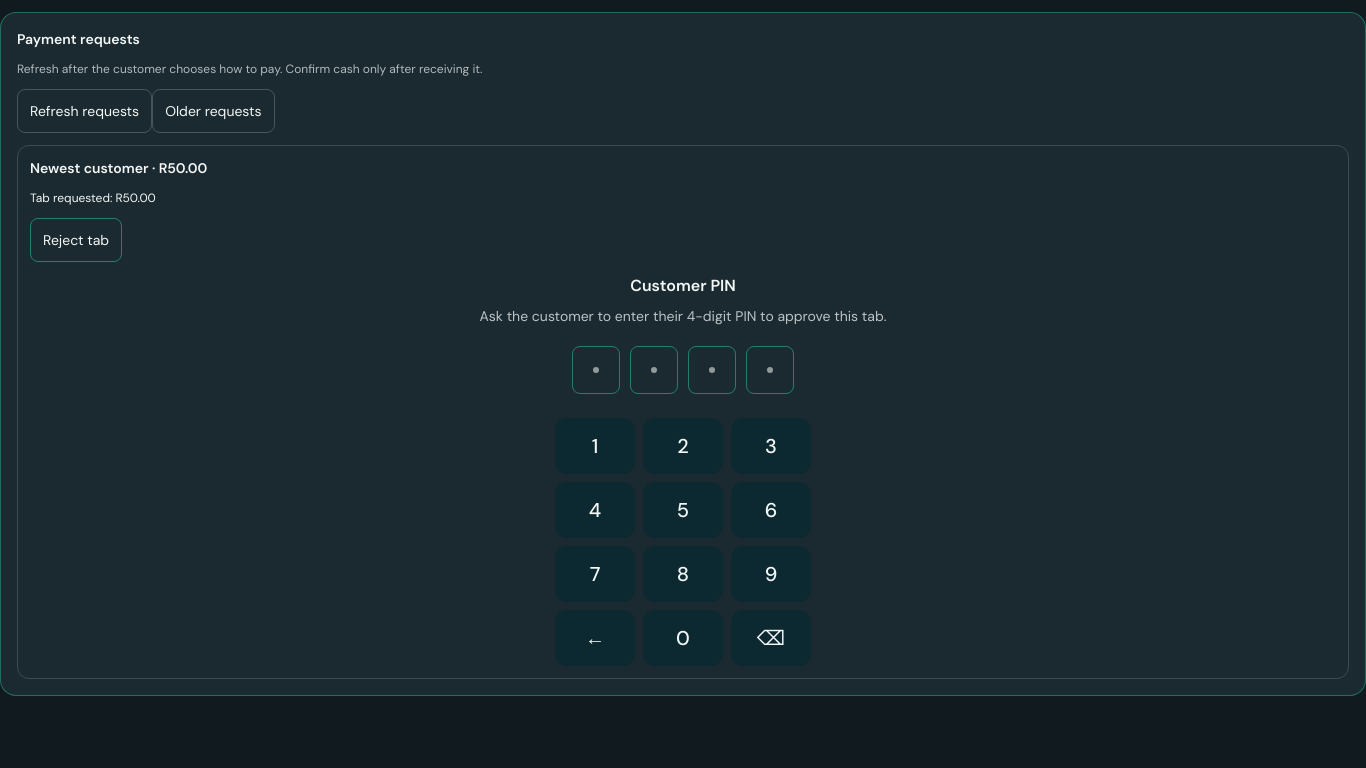
Scenario: owner payment interactions › preserves keypad feedback for invalid_pin across the parent's busy render
Expected: the text "Newest customer · R50.00" is shown, [30,159,207,177]
Expected: the button "Older requests" is enabled, [152,89,275,133]
Click the button named "Enter 1" at [595, 446], box [555,418,635,474]
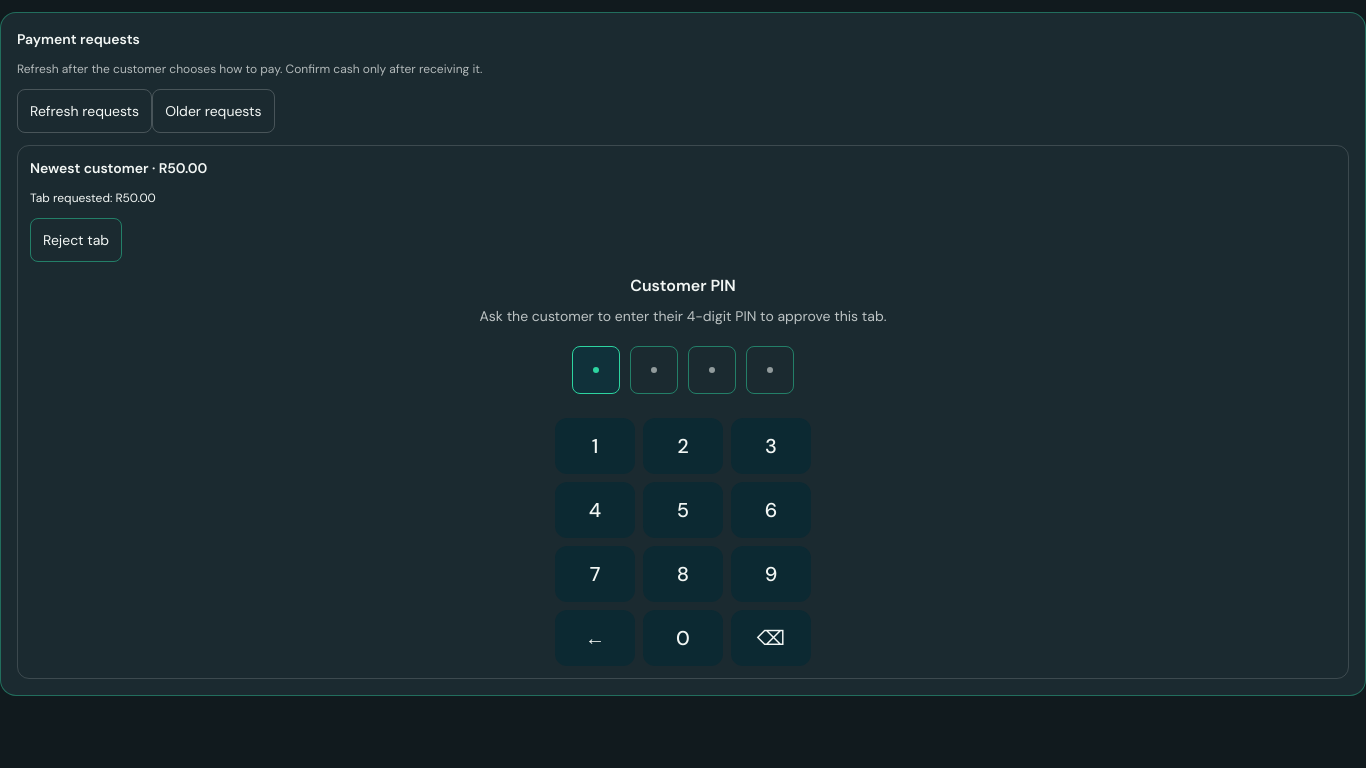
Click the button "2" at [683, 446], box [643,418,723,474]
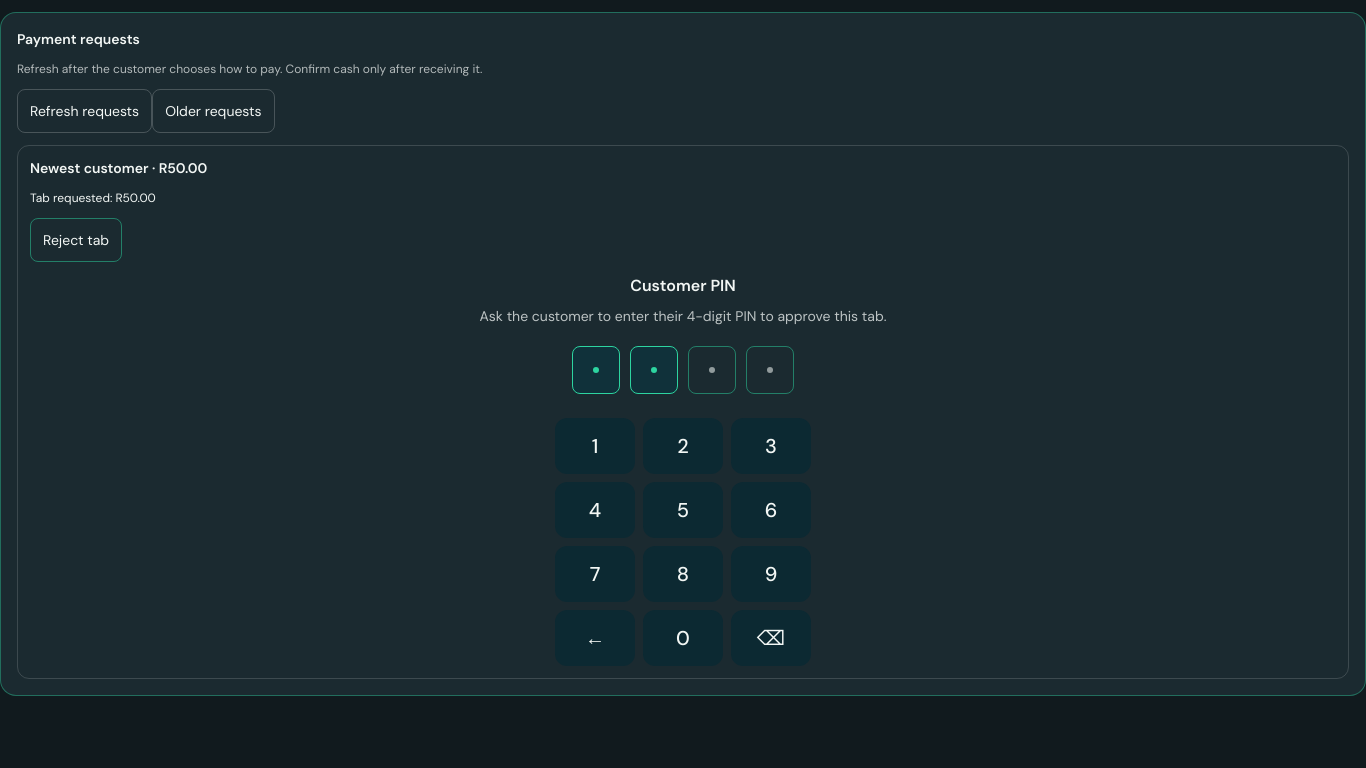
Click the button "3" at [771, 446], box [731,418,811,474]
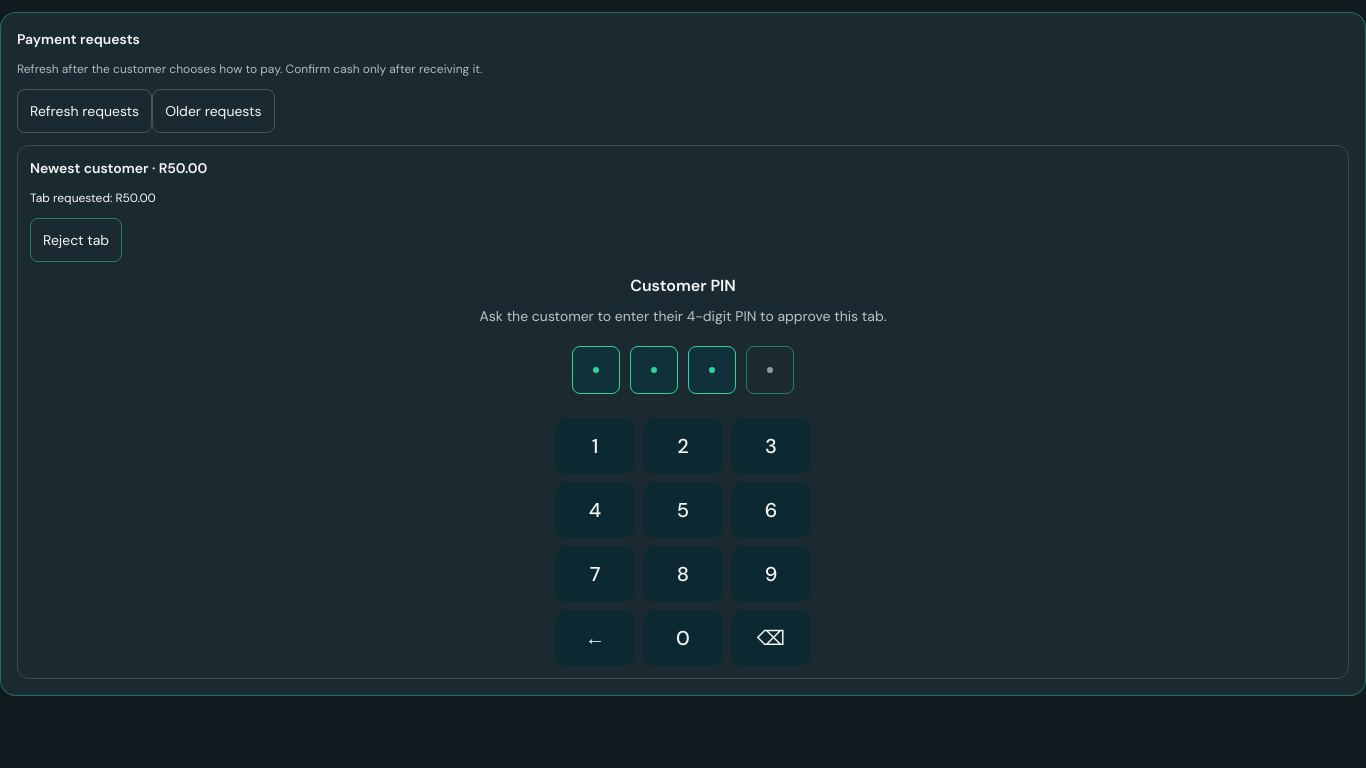
Click the button "4" at [595, 510], box [555,482,635,538]
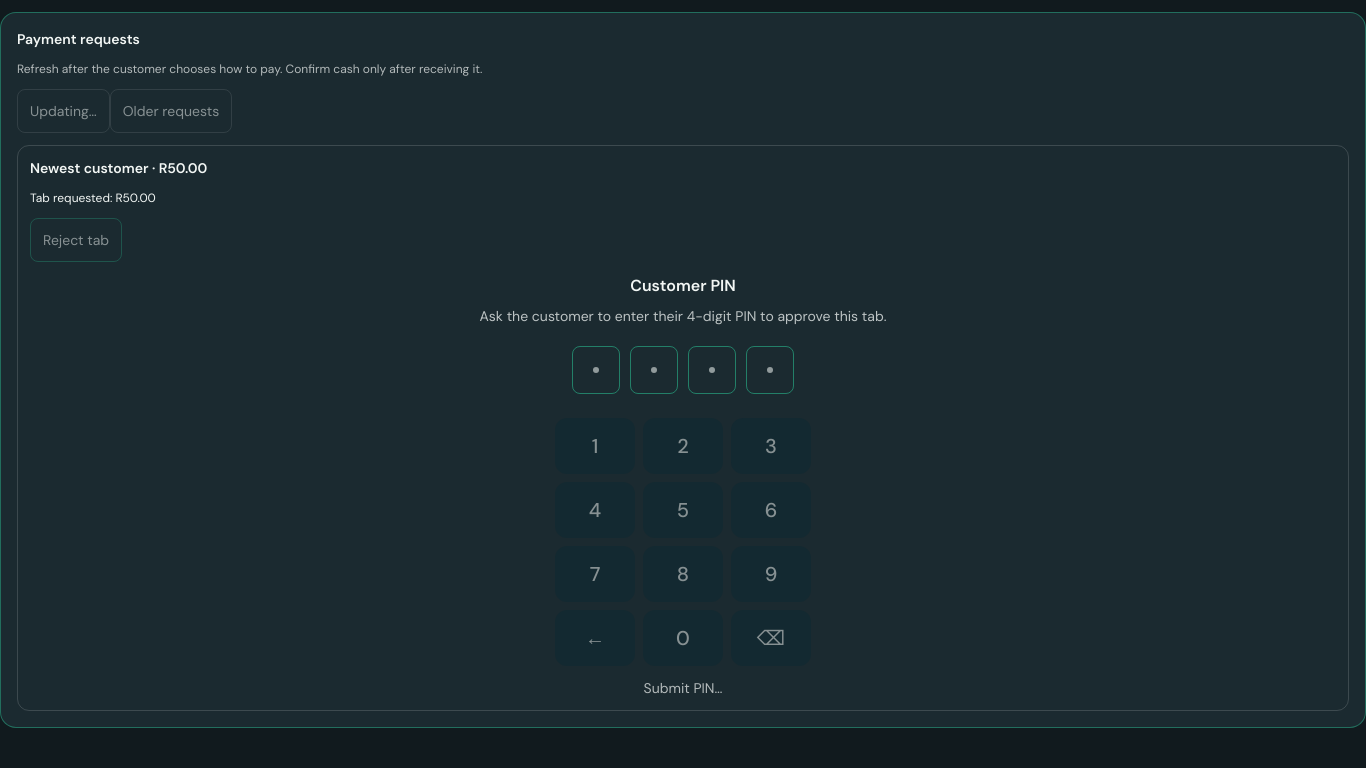
Expected: the button named "Enter 1" is disabled
Click the button named "Enter 1" at [595, 446], box [555,418,635,474]
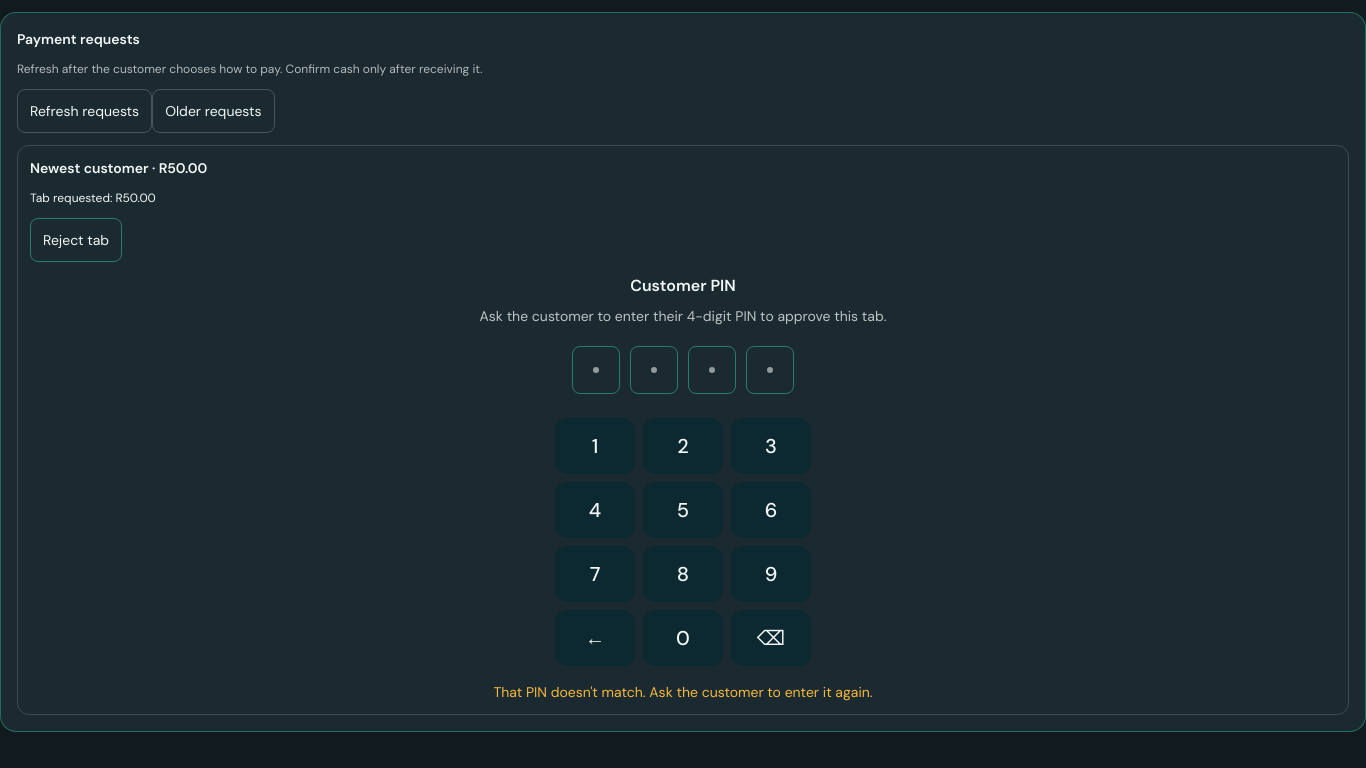
Expected: the number of messages is 1, [493,683,872,701]
Expected: the button named "Enter 1" is enabled, [555,418,635,474]
